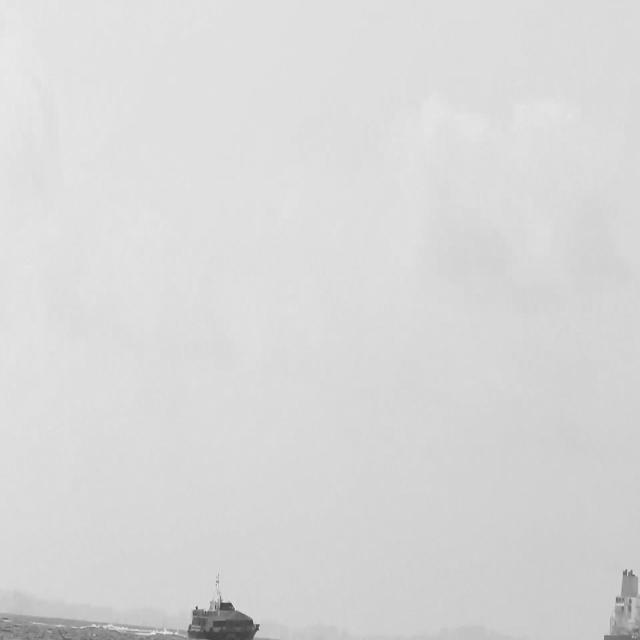ship: (183, 553, 260, 629), (588, 529, 639, 636)
